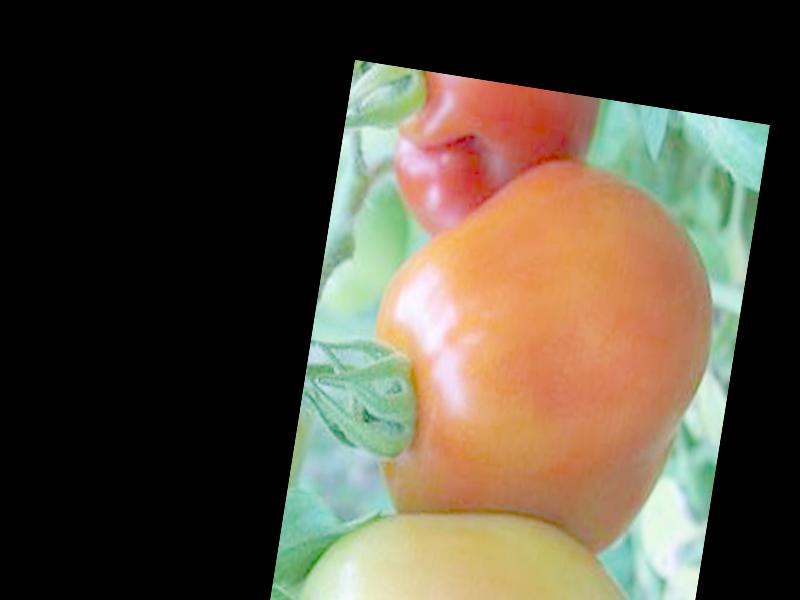Tomato: (350, 135, 734, 548)
